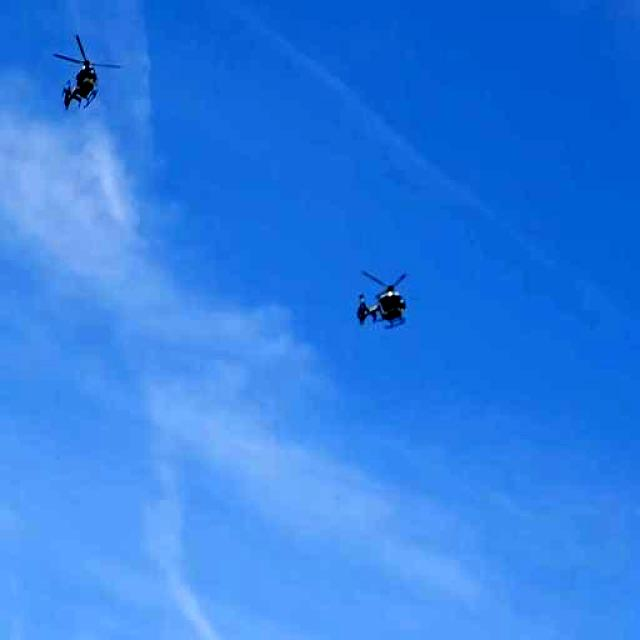drone: (349, 261, 415, 340), (56, 34, 120, 115)
